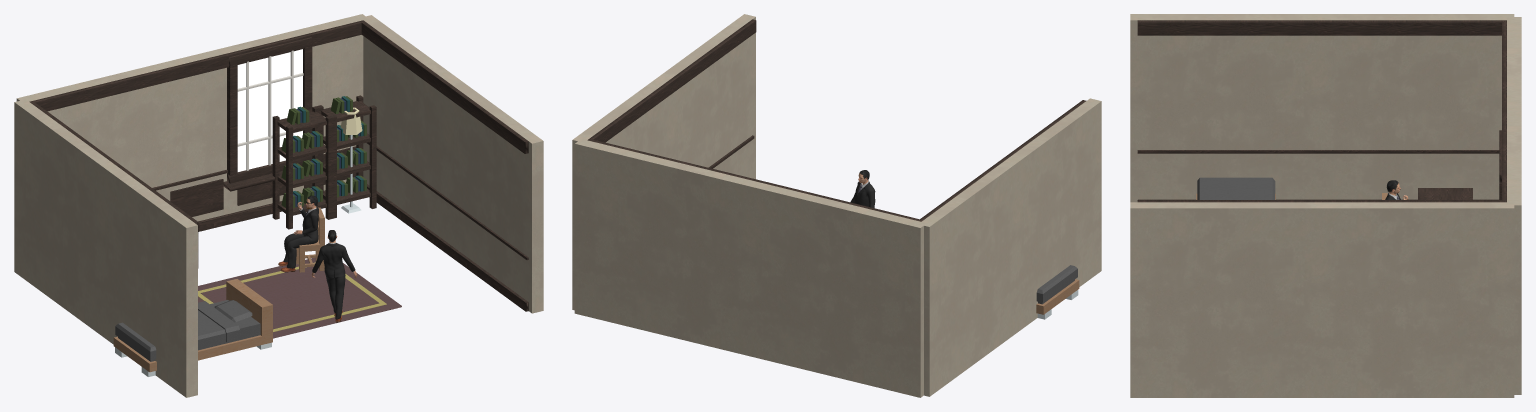
Rendered from stalin.glb.
The picture shows the model from 3 angles, left to right: view 1: azimuth 30°, elevation 25°; view 2: azimuth 150°, elevation 25°; view 3: azimuth 270°, elevation 25°; orthographic projection. The views are drawn at different scales.
Visible parts, largest first — view 1: wall_left, wall_right, wall_back, pane, box.026, box.006, bookcaseOpen(Clone).001, bedSingle(Clone).001, bookcaseOpen(Clone).002, box.008, cover.001, box.002 (+16 smaller); view 2: wall_back, wall_left, wall_right, box.008, box.006, box.007, cover.001, bedSingle(Clone).001, troyanovsky_Human.male_elegantsuit01; view 3: wall_right, wall_left, box.007, wall_back, cover.001, box.004, box.008, box.006, desk(Clone).001.
Boxes of the visible parts, x1,y1,x2,y2 form: wall_left: (14, 99, 197, 397); wall_right: (360, 15, 543, 313); wall_back: (16, 14, 368, 221); pane: (237, 49, 302, 171); box.026: (200, 266, 379, 329); box.006: (29, 20, 362, 111); bookcaseOpen(Clone).001: (272, 106, 332, 229); bedSingle(Clone).001: (113, 279, 272, 376); bookcaseOpen(Clone).002: (317, 95, 376, 218); box.008: (361, 20, 528, 153); cover.001: (115, 301, 239, 360); box.002: (367, 184, 528, 311); wall_back: (574, 139, 925, 397); wall_left: (919, 98, 1101, 396); wall_right: (572, 14, 755, 310); box.008: (587, 19, 756, 142); box.006: (588, 139, 920, 221); box.007: (920, 100, 1086, 221); cover.001: (1036, 265, 1077, 302); bedSingle(Clone).001: (1036, 279, 1079, 319); troyanovsky_Human.male_elegantsuit01: (850, 180, 875, 208); wall_right: (1130, 202, 1514, 397); wall_left: (1130, 14, 1514, 202); box.007: (1137, 20, 1506, 35); wall_back: (1507, 17, 1521, 394); cover.001: (1197, 177, 1275, 199); box.004: (1137, 150, 1499, 153); box.008: (1137, 200, 1506, 202); box.006: (1502, 20, 1506, 201); desk(Clone).001: (1418, 188, 1472, 199).
Size of what is drawn, in the model's own units: 7.63 by 3.4 by 6.36.
Materials: 49 (36 with a texture image).
